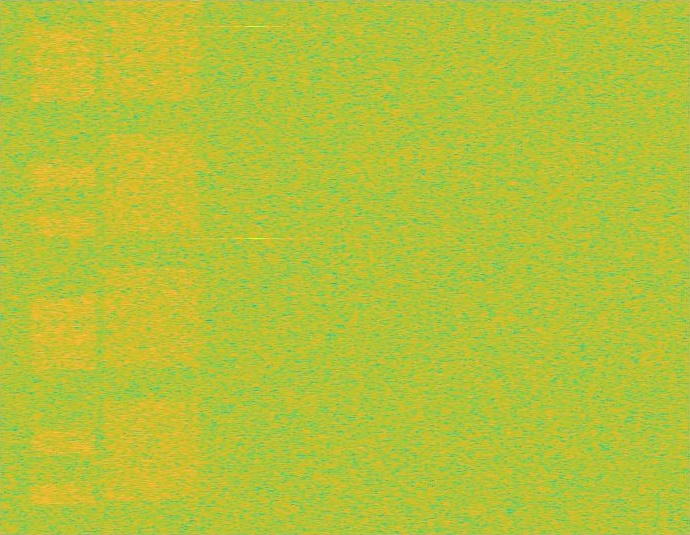5G: (100, 0, 204, 534)
LTE: (29, 0, 98, 534)
Radar: (250, 0, 264, 534)
